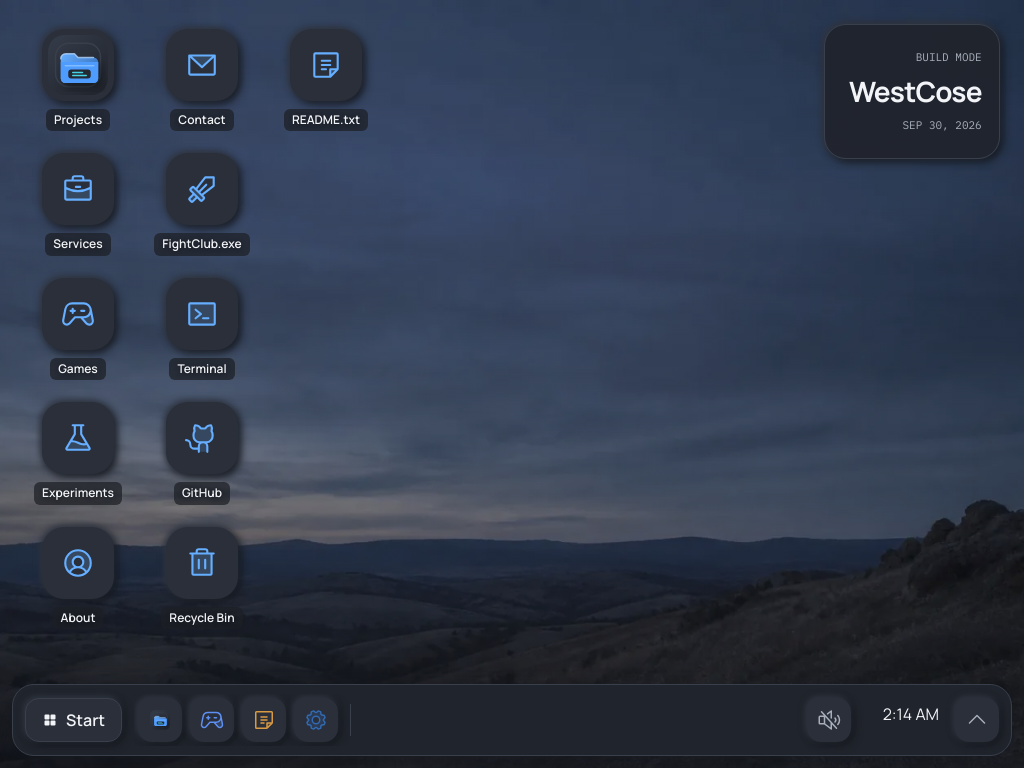
Test: Desktop personalization › offers Theme, Wallpaper, Refresh, and Appearance Settings on empty space
Right-click the element named "Desktop shortcuts" at (202,329), box [24, 24, 380, 634]
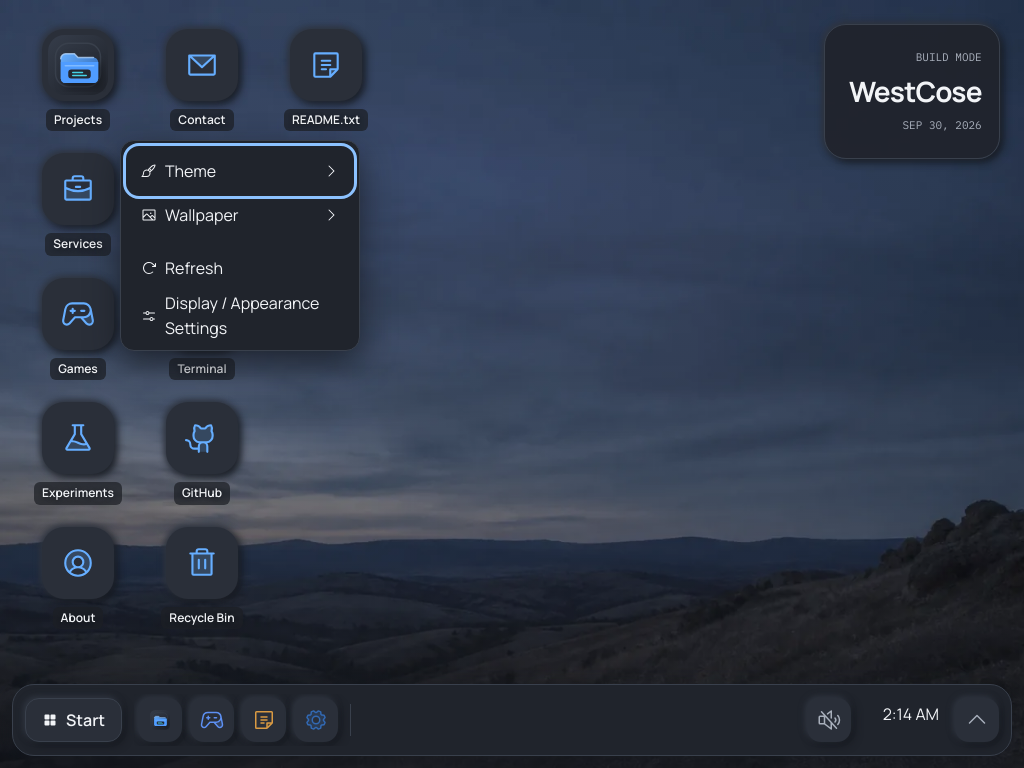
Expected: the menu items read "Theme", "Wallpaper", "Refresh", "Display / Appearance Settings", in this order, [129, 149, 351, 193]; [129, 193, 351, 237]; [129, 246, 351, 290]; [129, 290, 351, 342]
